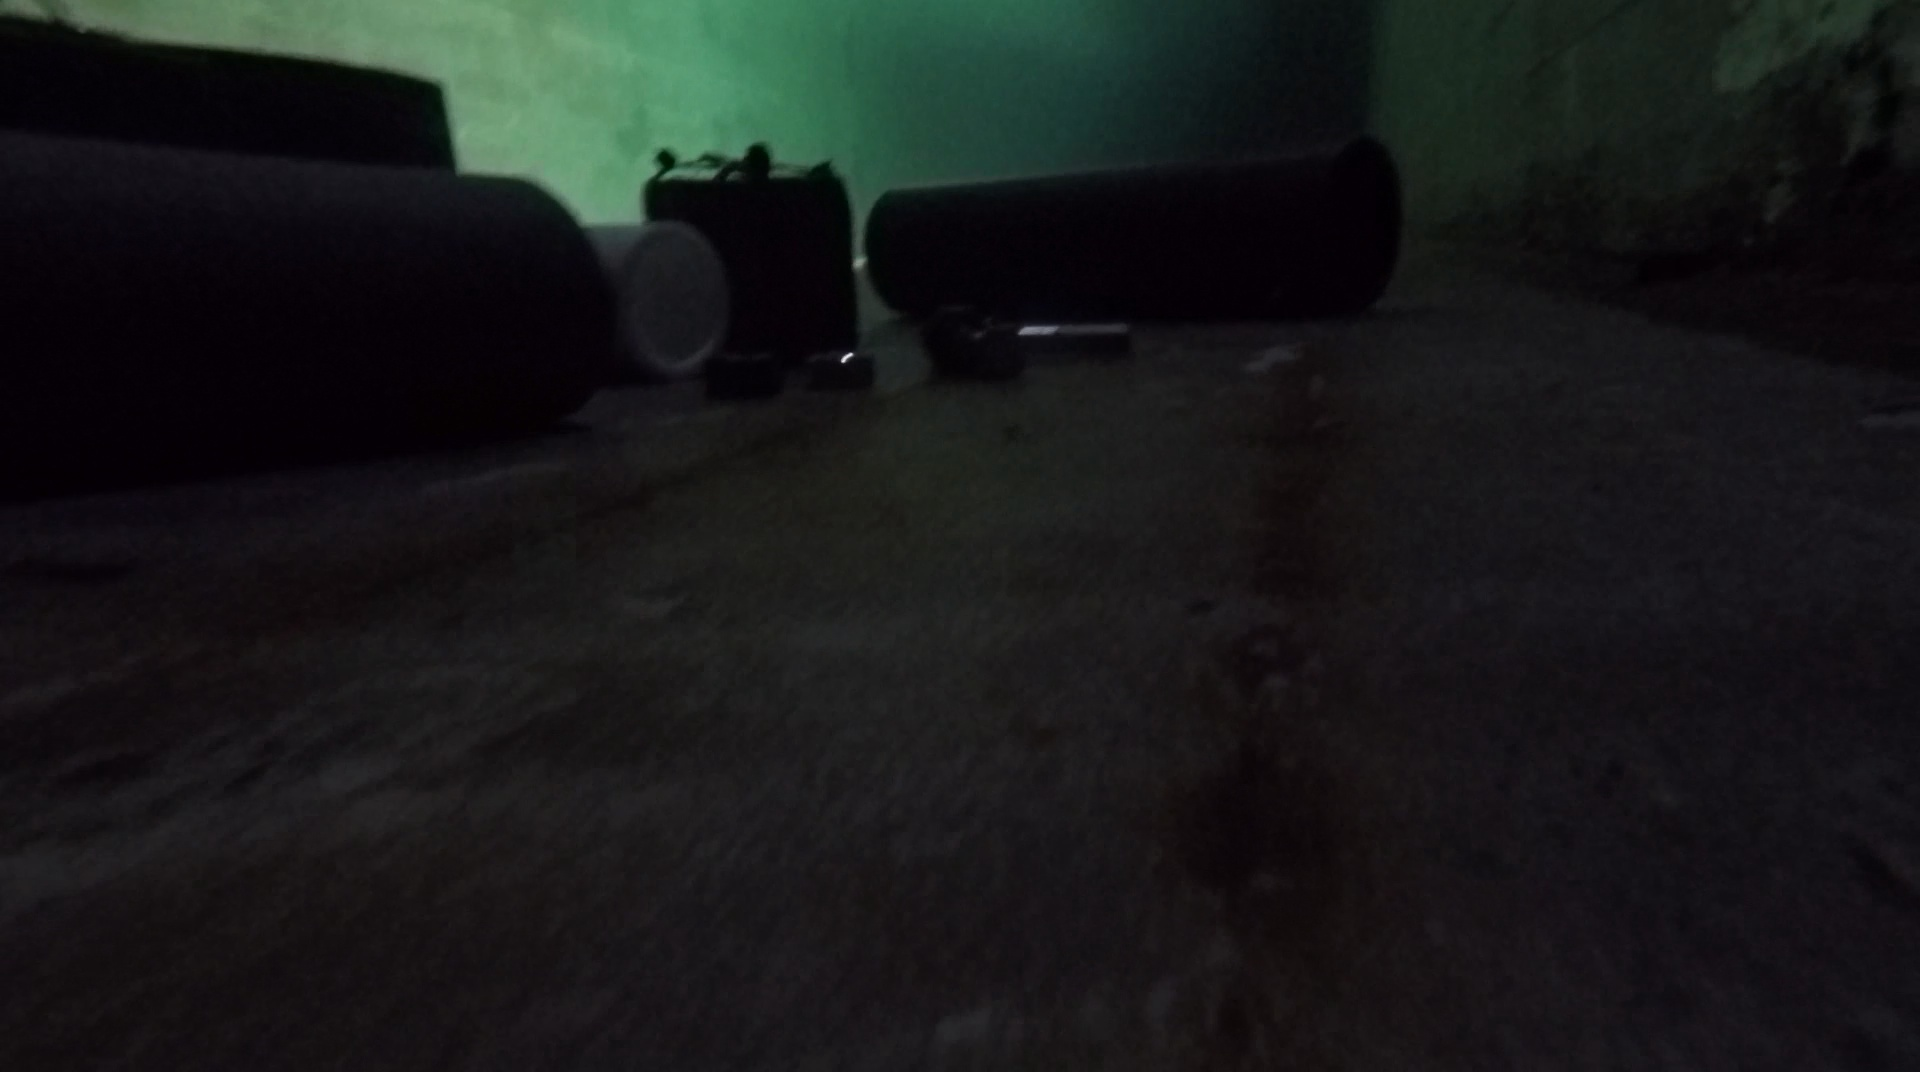bolt: (911, 309, 1027, 382), (1017, 320, 1133, 353)
led_block: (642, 140, 865, 351)
nut: (711, 349, 789, 401), (804, 348, 878, 393)
pipe: (1, 128, 615, 469), (862, 131, 1407, 316), (579, 218, 729, 378)
